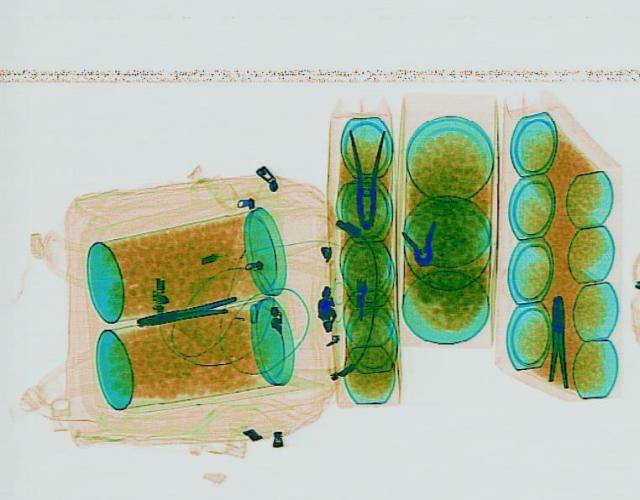Pliers: (348, 128, 386, 228), (134, 293, 240, 328), (544, 293, 566, 386), (398, 220, 442, 266)
